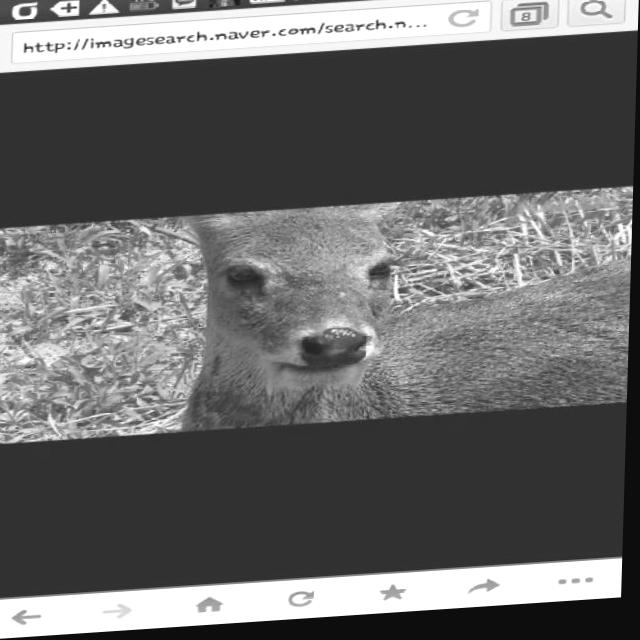Deer: (139, 183, 633, 432)
